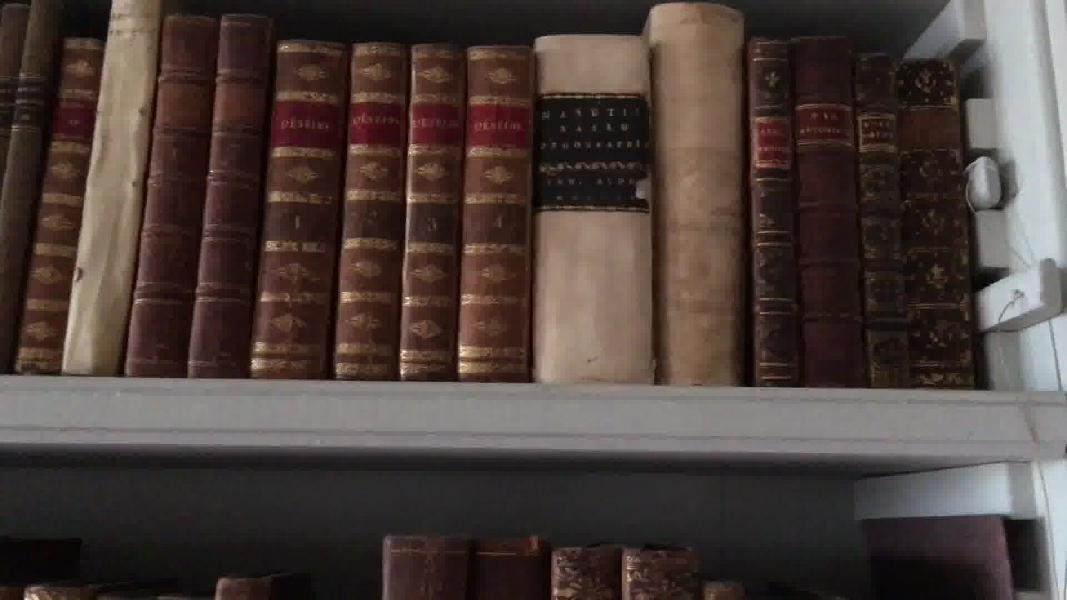Kk4-19: (13, 24, 109, 378)
Kk4-20: (55, 1, 169, 389)
Kk4-21_22: (115, 7, 274, 401)
Kk4-23_26: (244, 20, 540, 388)
Kk4-27: (528, 21, 665, 396)
Kk4-28: (644, 2, 754, 408)
Kk4-29: (736, 32, 806, 389)
Kk4-30: (786, 19, 871, 396)
Kk4-31: (847, 47, 913, 393)
Kk4-32: (892, 42, 996, 394)
